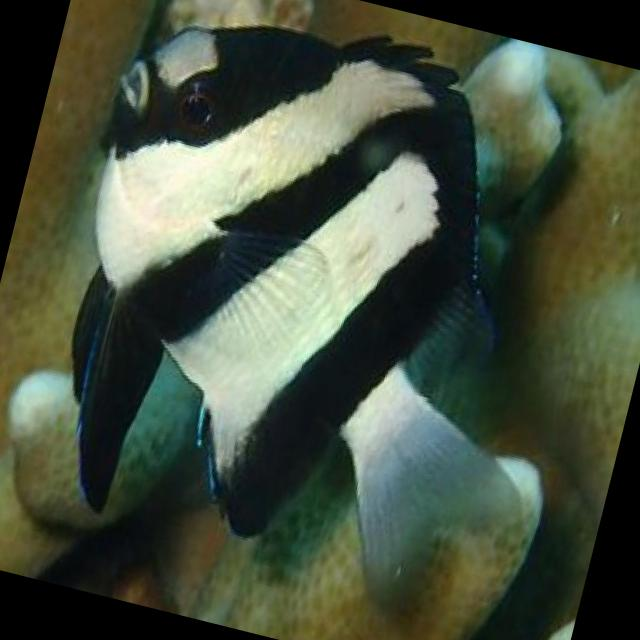Three_striped DasmselFish: (5, 0, 607, 637)
